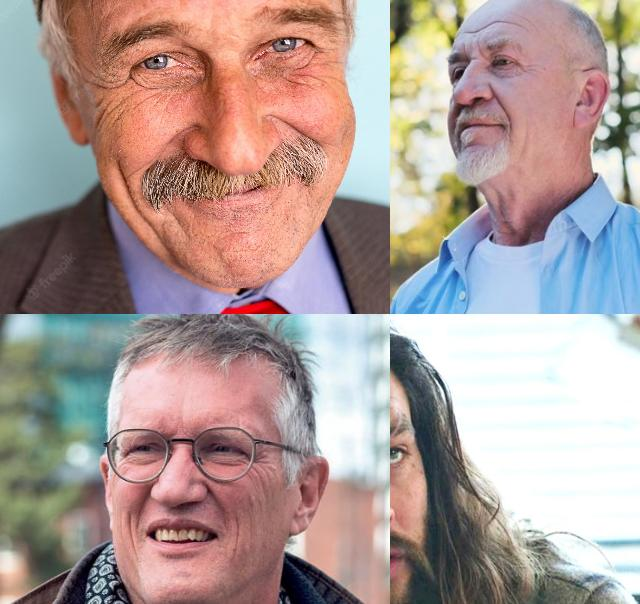crows_feet: (312, 42, 344, 96), (94, 61, 128, 108), (247, 448, 269, 473), (517, 58, 535, 72)
forehead: (488, 16, 518, 30), (463, 25, 485, 39), (522, 14, 536, 30)
frown_line: (474, 40, 484, 60)
gummy_smile: (150, 119, 196, 151), (276, 114, 322, 140), (130, 481, 154, 519), (489, 91, 509, 121), (202, 478, 222, 506)
masseter: (110, 154, 148, 219), (114, 511, 142, 552), (229, 514, 245, 564)
